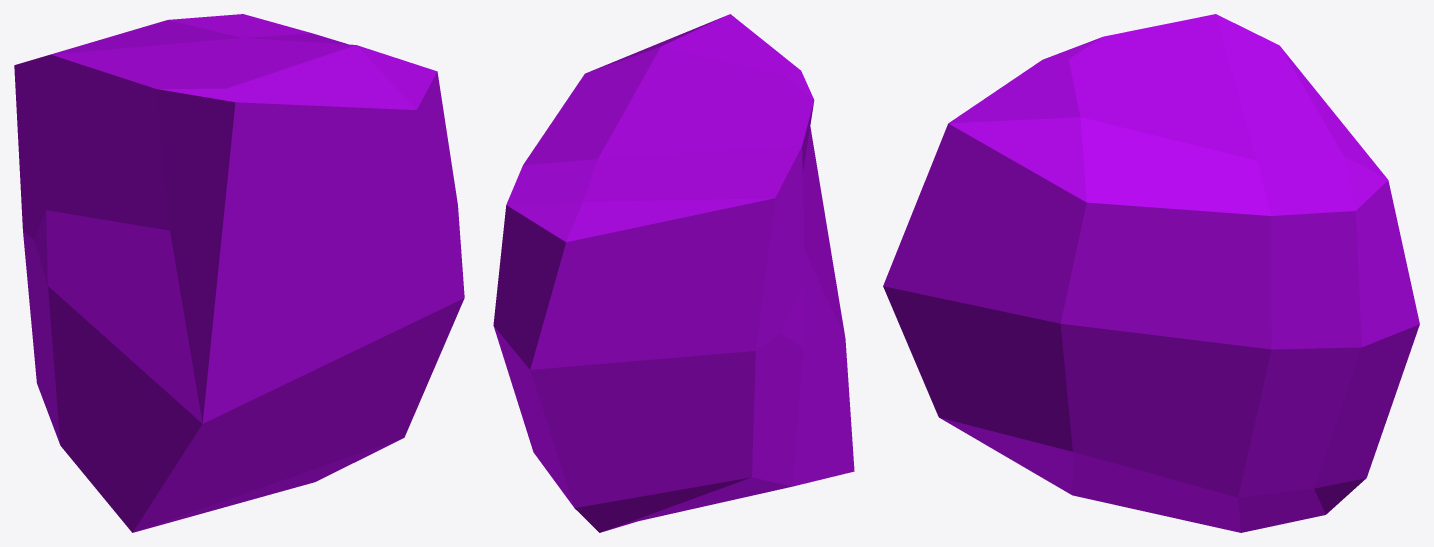
The model's file is Nugget1_Purple.fbx.
3 views of the same model, side by side, from view 1: azimuth 30°, elevation 25°; view 2: azimuth 150°, elevation 25°; view 3: azimuth 270°, elevation 25° (orthographic). The views are drawn at different scales.
Visible parts, largest first — view 1: Nugget1_Purple; view 2: Nugget1_Purple; view 3: Nugget1_Purple.
Boxes of the visible parts, x1,y1,x2,y2 form: Nugget1_Purple: [14, 14, 464, 532]; Nugget1_Purple: [493, 14, 854, 532]; Nugget1_Purple: [883, 14, 1419, 532].
Bounding box in the file's own units: 25.47 × 34.73 × 38.13.
